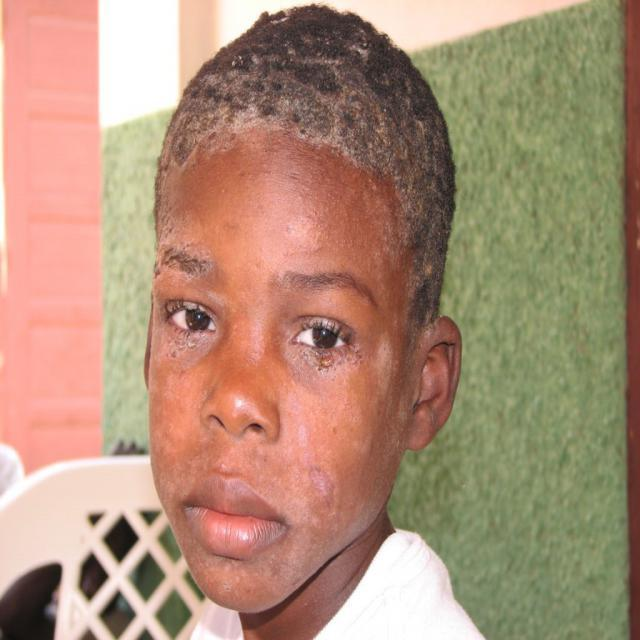closed-mouth: (181, 473, 288, 561)
